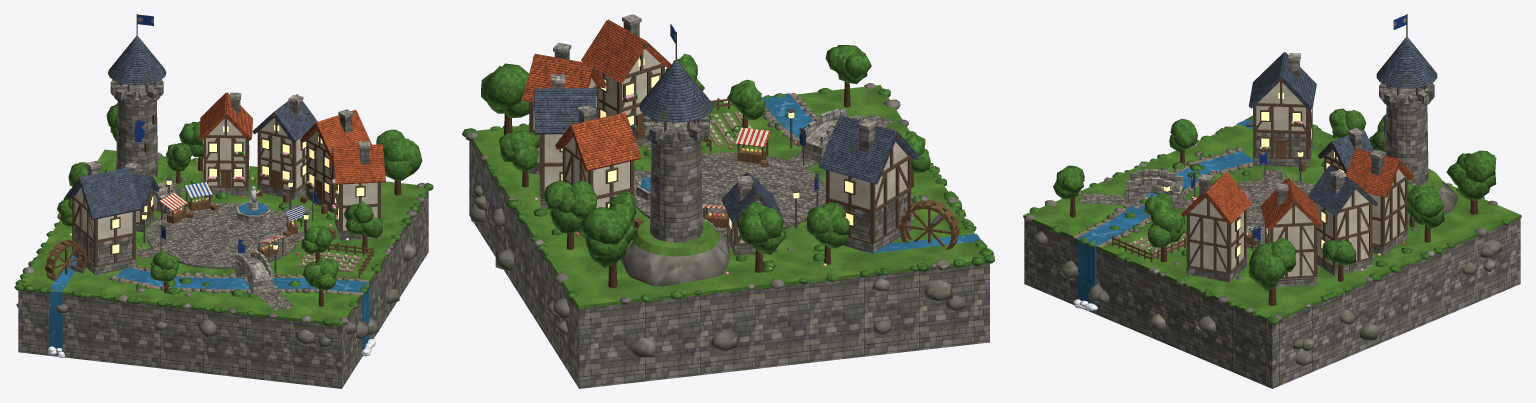
Rendered from aldea_tierra.glb.
3 views of the same model, side by side, from view 1: azimuth 30°, elevation 25°; view 2: azimuth 150°, elevation 25°; view 3: azimuth 270°, elevation 25° (orthographic). The views are drawn at different scales.
Visible parts, largest first — view 1: aldea, water, waterwheel; view 2: aldea, water, waterwheel; view 3: aldea, water.
Boxes of the visible parts, left/top/right/bottom form: aldea: left=14, top=14, right=433, bottom=388; water: left=49, top=202, right=369, bottom=356; waterwheel: left=45, top=240, right=87, bottom=280; aldea: left=462, top=14, right=994, bottom=388; water: left=640, top=93, right=980, bottom=253; waterwheel: left=899, top=200, right=959, bottom=249; aldea: left=1023, top=14, right=1521, bottom=388; water: left=1077, top=120, right=1315, bottom=312.
Bounding box in the file's own units: 3.45 × 1.95 × 3.41.
Materials: 27 (15 with a texture image).
